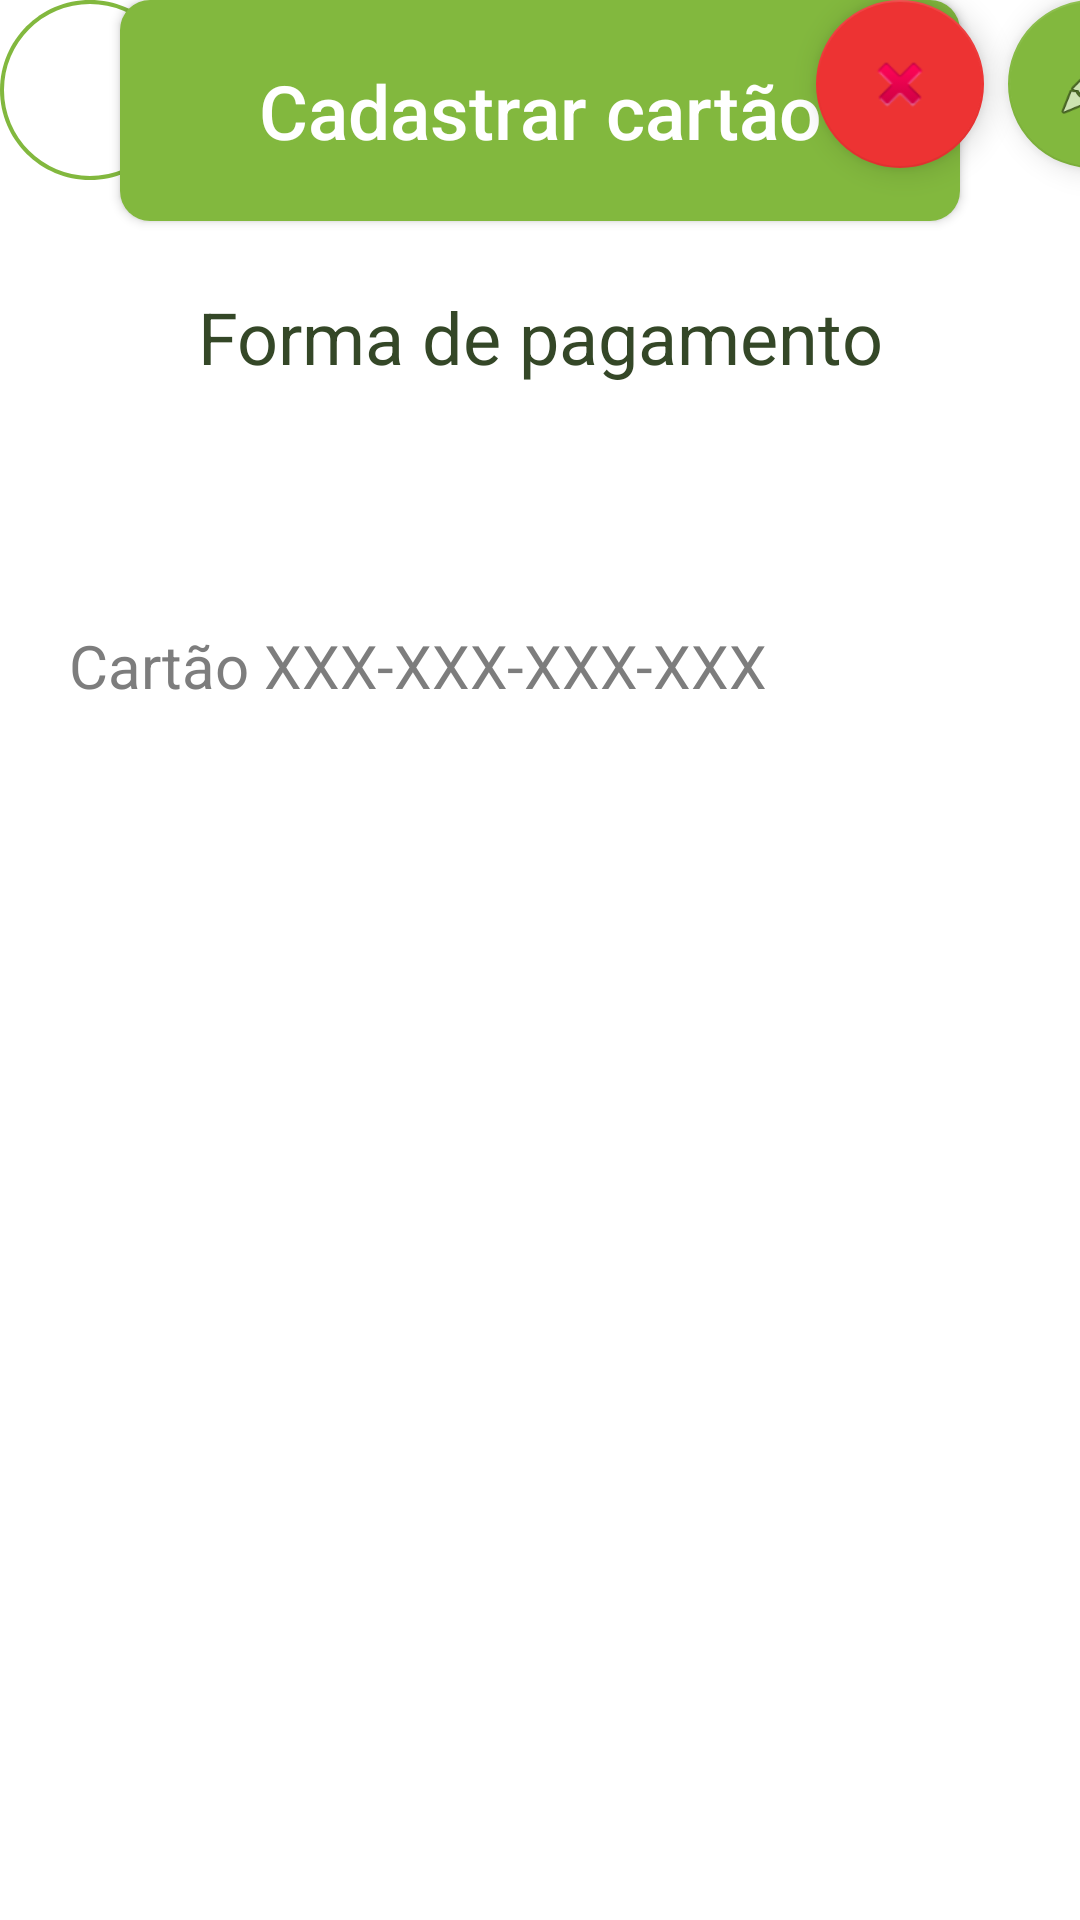

Where to tap for icons on this 1080x1920 app screen, as point (x, y):
delete: point (900, 84)
